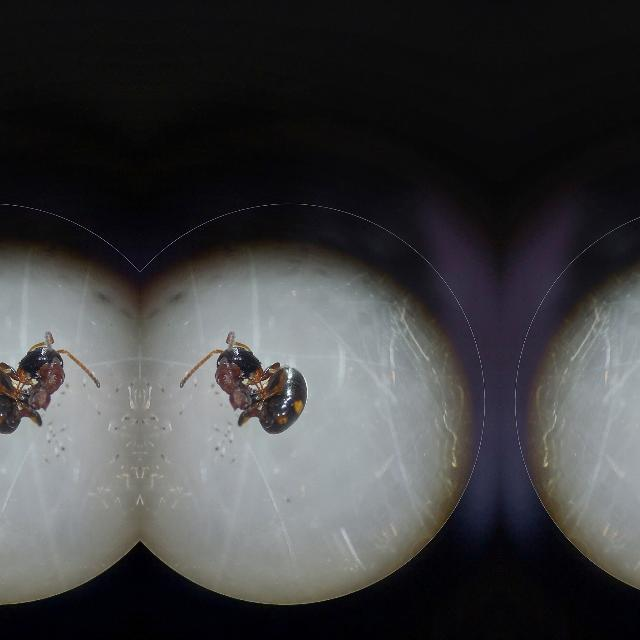Dolichoderus: (196, 318, 314, 456), (0, 318, 82, 454)
